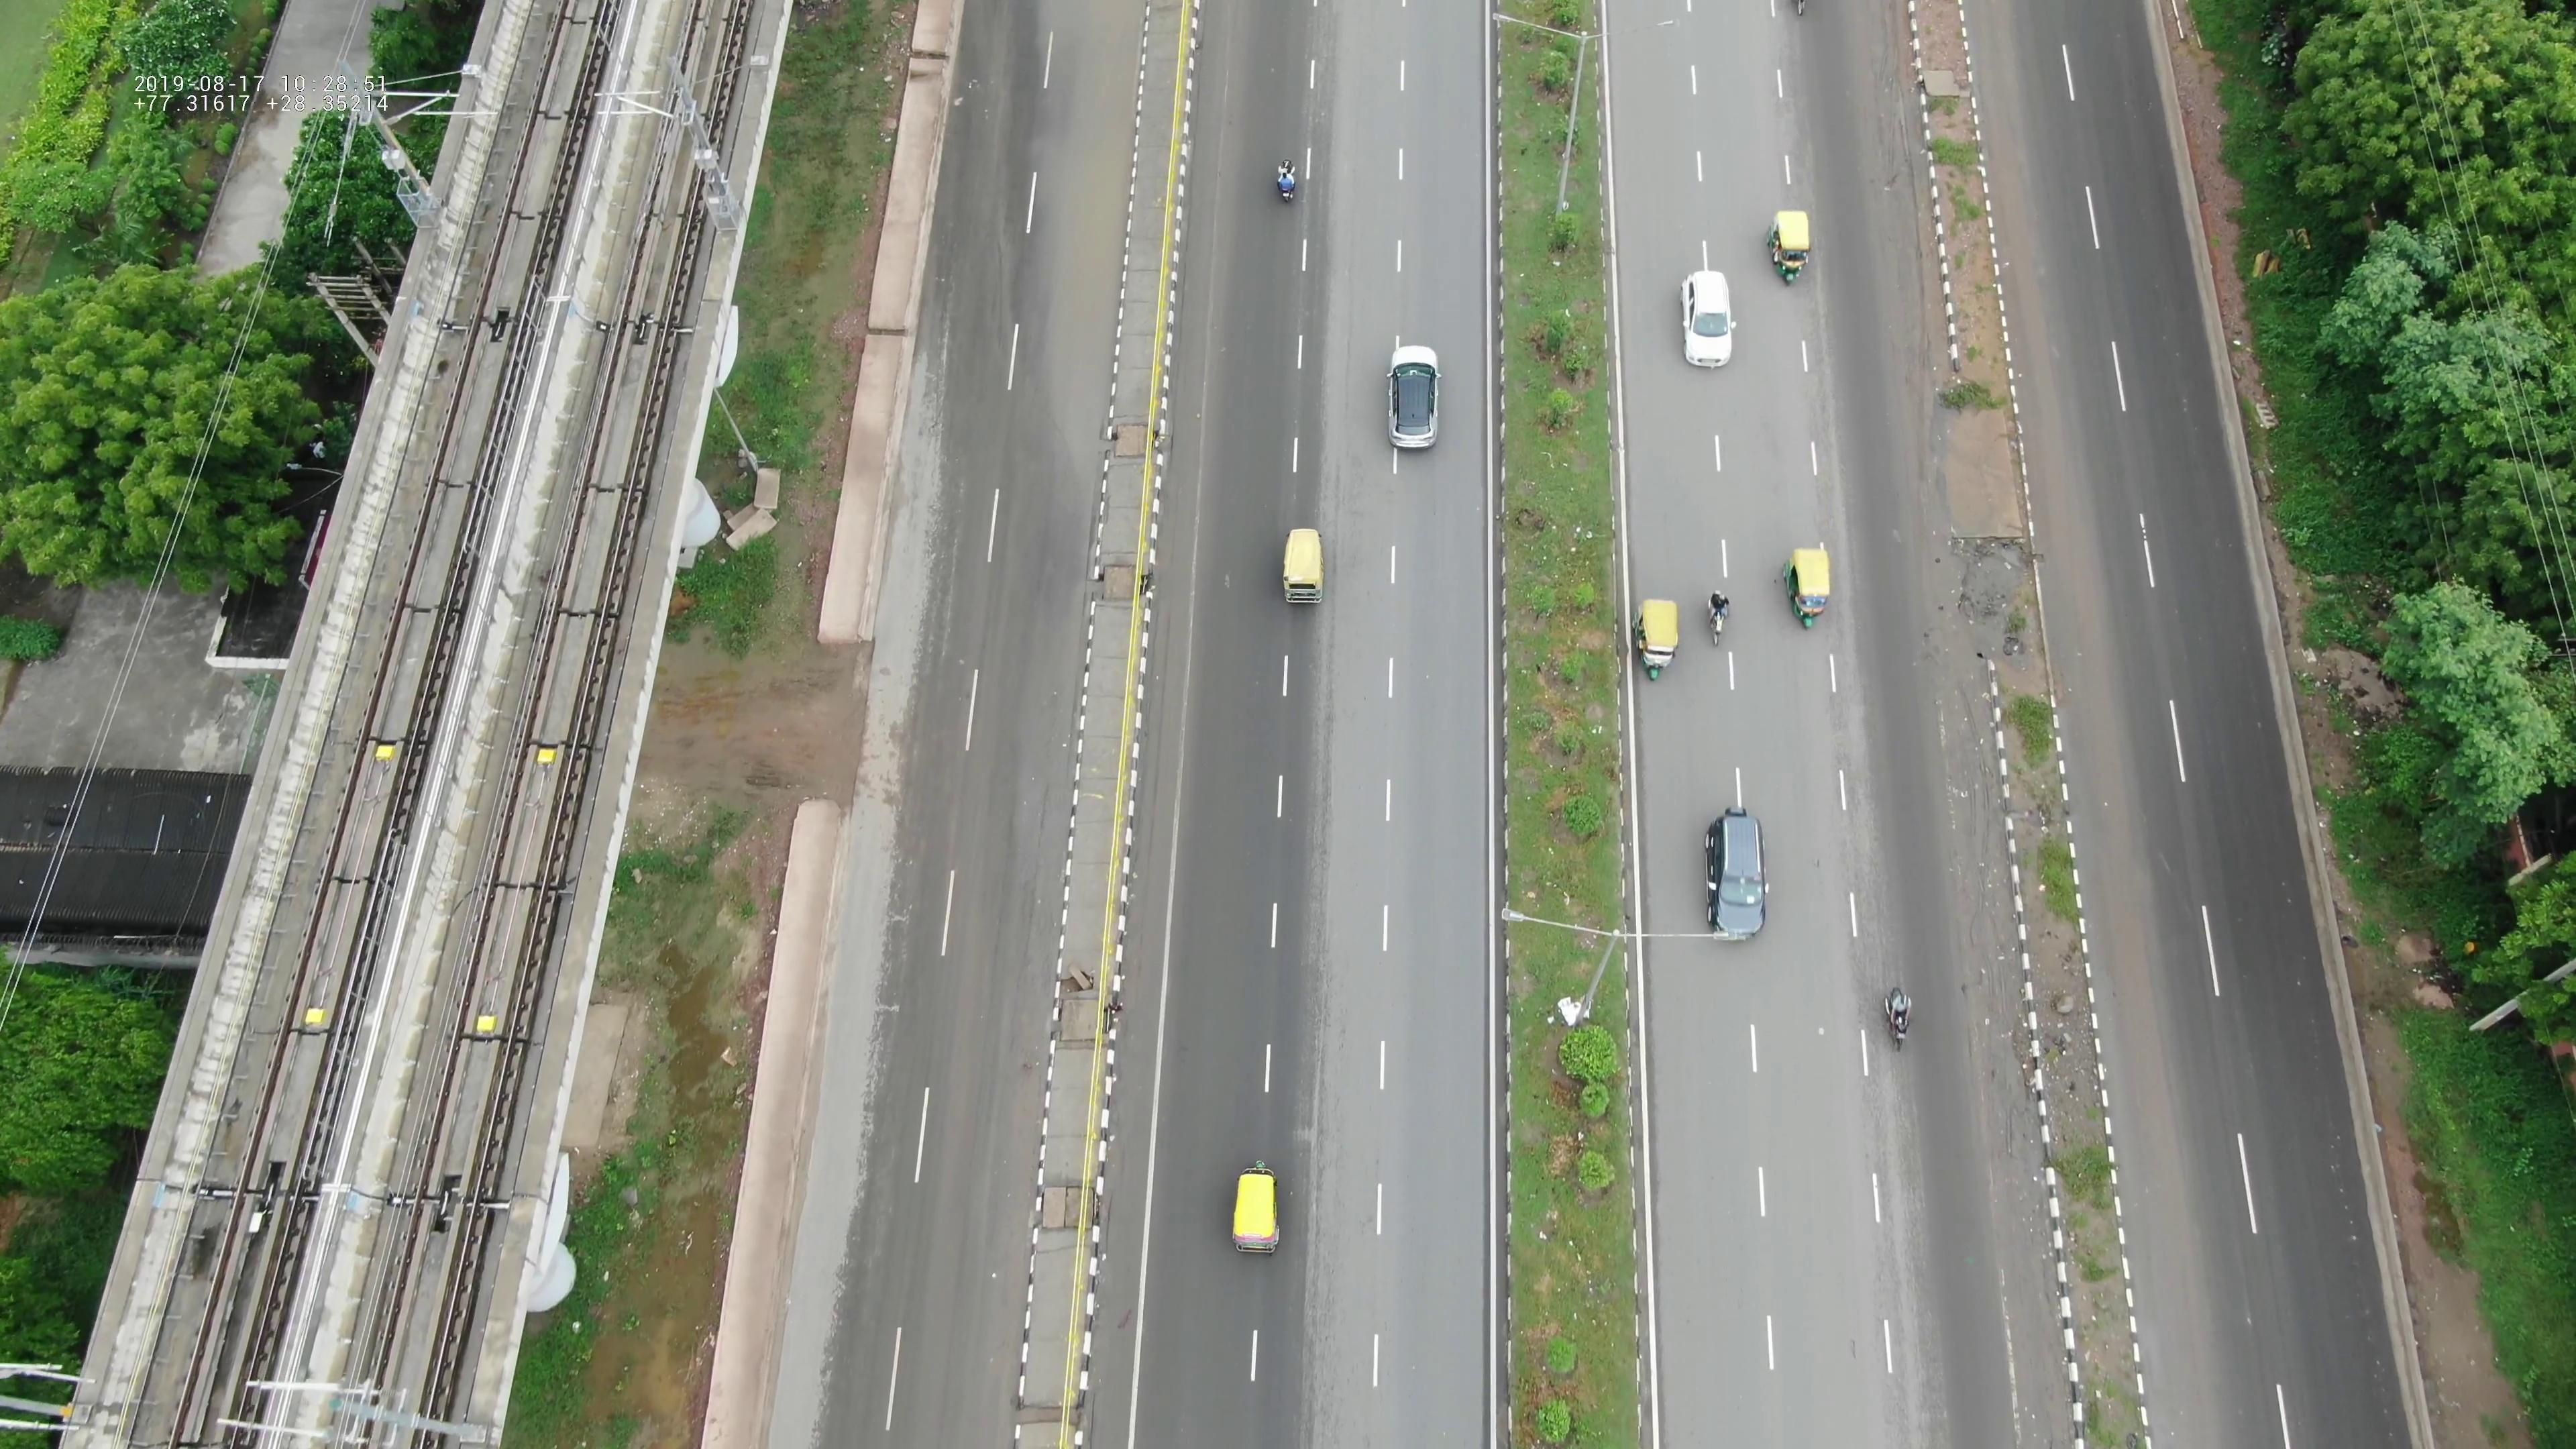Muddy_road: (1835, 7, 1948, 372), (1943, 791, 2029, 1145), (1888, 437, 1983, 734)
Ravelling: (1299, 713, 1352, 1111), (1302, 1125, 1359, 1430)
Waterlogging: (1039, 53, 1131, 474)
